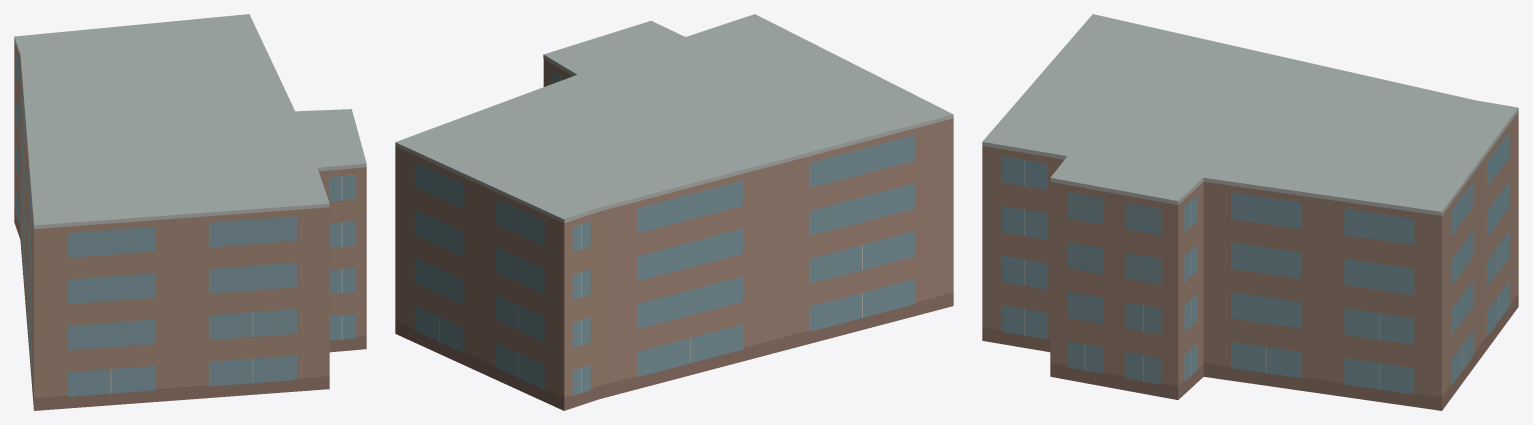
Rendered from residential-f4ac38b2-cb9c-4583-acab-2dd506543855.glb.
The picture shows the model from 3 angles, left to right: view 1: azimuth 30°, elevation 25°; view 2: azimuth 150°, elevation 25°; view 3: azimuth 270°, elevation 25°; orthographic projection. The views are drawn at different scales.
Visible parts, largest first — view 1: residential-f4ac38b2-cb9c-4583-acab-2dd506543855.tmp; view 2: residential-f4ac38b2-cb9c-4583-acab-2dd506543855.tmp; view 3: residential-f4ac38b2-cb9c-4583-acab-2dd506543855.tmp.
Part boxes in pixels (<box>): residential-f4ac38b2-cb9c-4583-acab-2dd506543855.tmp: <box>14,14,366,410</box>; residential-f4ac38b2-cb9c-4583-acab-2dd506543855.tmp: <box>395,14,953,410</box>; residential-f4ac38b2-cb9c-4583-acab-2dd506543855.tmp: <box>982,14,1518,410</box>.
Bounding box in the file's own units: 26.04 × 12.2 × 29.82.
